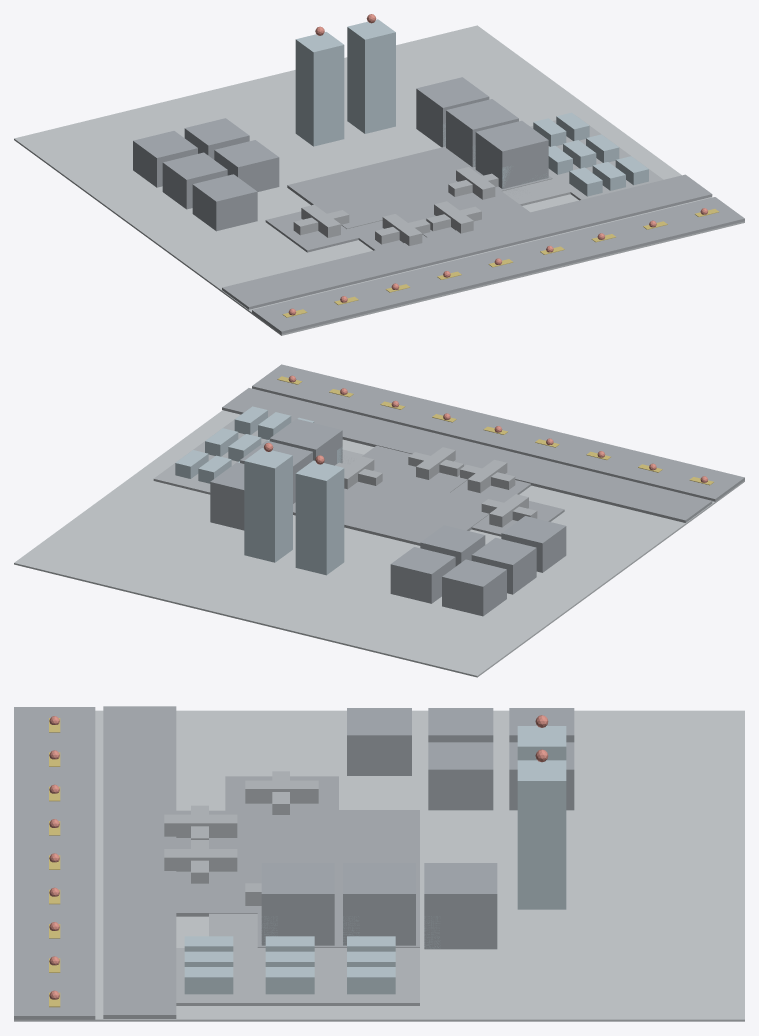
File: stage_23.glb
The picture shows the model from 3 angles, top to bottom: view 1: azimuth 30°, elevation 25°; view 2: azimuth 150°, elevation 25°; view 3: azimuth 270°, elevation 25°; orthographic projection. The views are drawn at different scales.
Parts seen in each view (by area): view 1: geometry_0; view 2: geometry_0; view 3: geometry_0.
Boxes of the visible parts, x1,y1,x2,y2 form: geometry_0: (14,14,744,335); geometry_0: (14,364,744,677); geometry_0: (14,706,744,1021).
Size of the model in its own units: 9 by 2.06 by 9.
